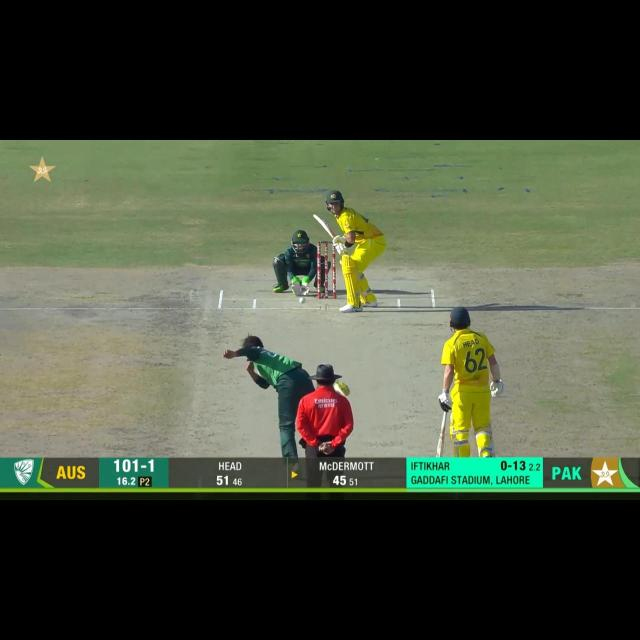bat: (433, 416, 448, 459), (312, 215, 336, 239)
toe: (432, 448, 446, 456), (312, 215, 324, 221)
